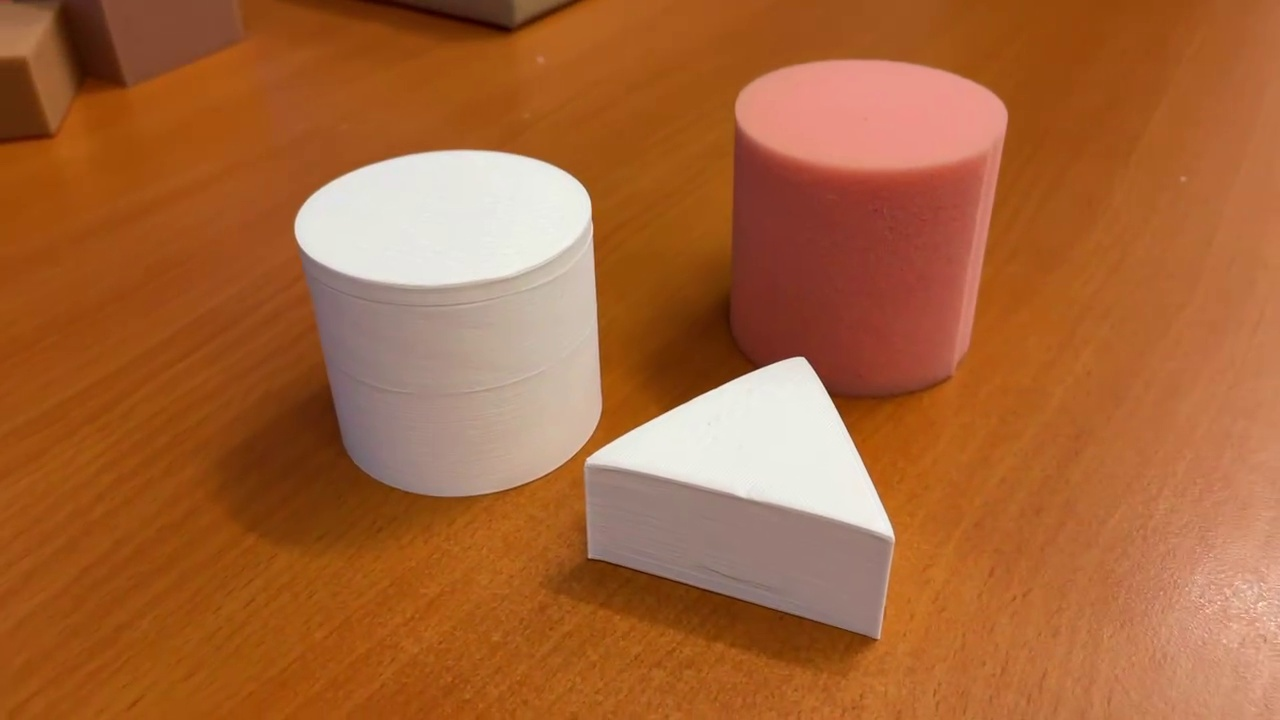Cylinder: (284, 144, 610, 508), (723, 50, 1011, 404)
Triangle_short: (587, 347, 900, 656)
